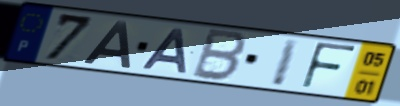7: (41, 12, 97, 63)
A: (78, 19, 132, 69), (139, 28, 190, 76)
B: (188, 27, 251, 84)
F: (298, 40, 360, 92)
I: (268, 37, 303, 89)
